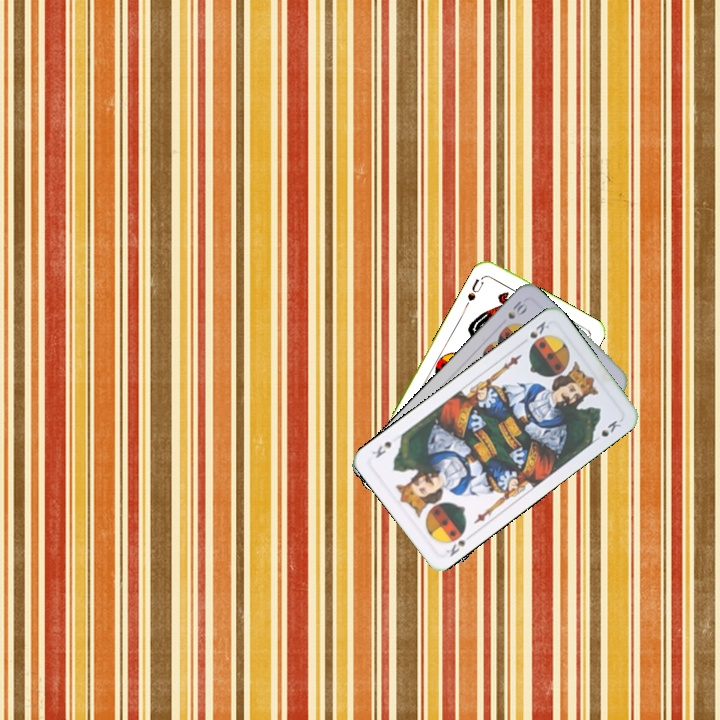S10: (504, 297, 531, 322)
SK: (442, 536, 469, 560), (526, 317, 552, 341)
SU: (463, 272, 487, 304)
